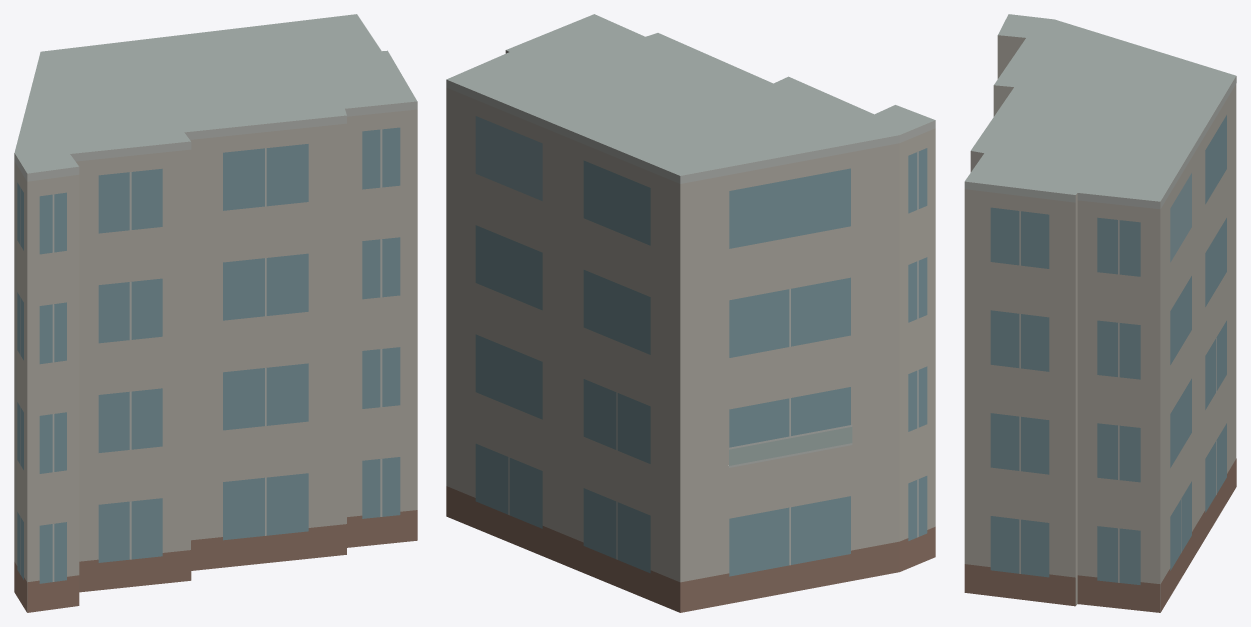
The model's file is survey-upis-32456797.glb.
3 renders of one model, left to right at view 1: azimuth 30°, elevation 25°; view 2: azimuth 150°, elevation 25°; view 3: azimuth 270°, elevation 25°, orthographic. The views are drawn at different scales.
Visible parts, largest first — view 1: survey-upis-32456797.tmp; view 2: survey-upis-32456797.tmp; view 3: survey-upis-32456797.tmp.
Boxes of the visible parts, x1,y1,x2,y2 form: survey-upis-32456797.tmp: (14, 14, 417, 612); survey-upis-32456797.tmp: (446, 14, 935, 612); survey-upis-32456797.tmp: (964, 14, 1236, 612).
Bounding box in the file's own units: 12.98 × 13.25 × 7.95.
